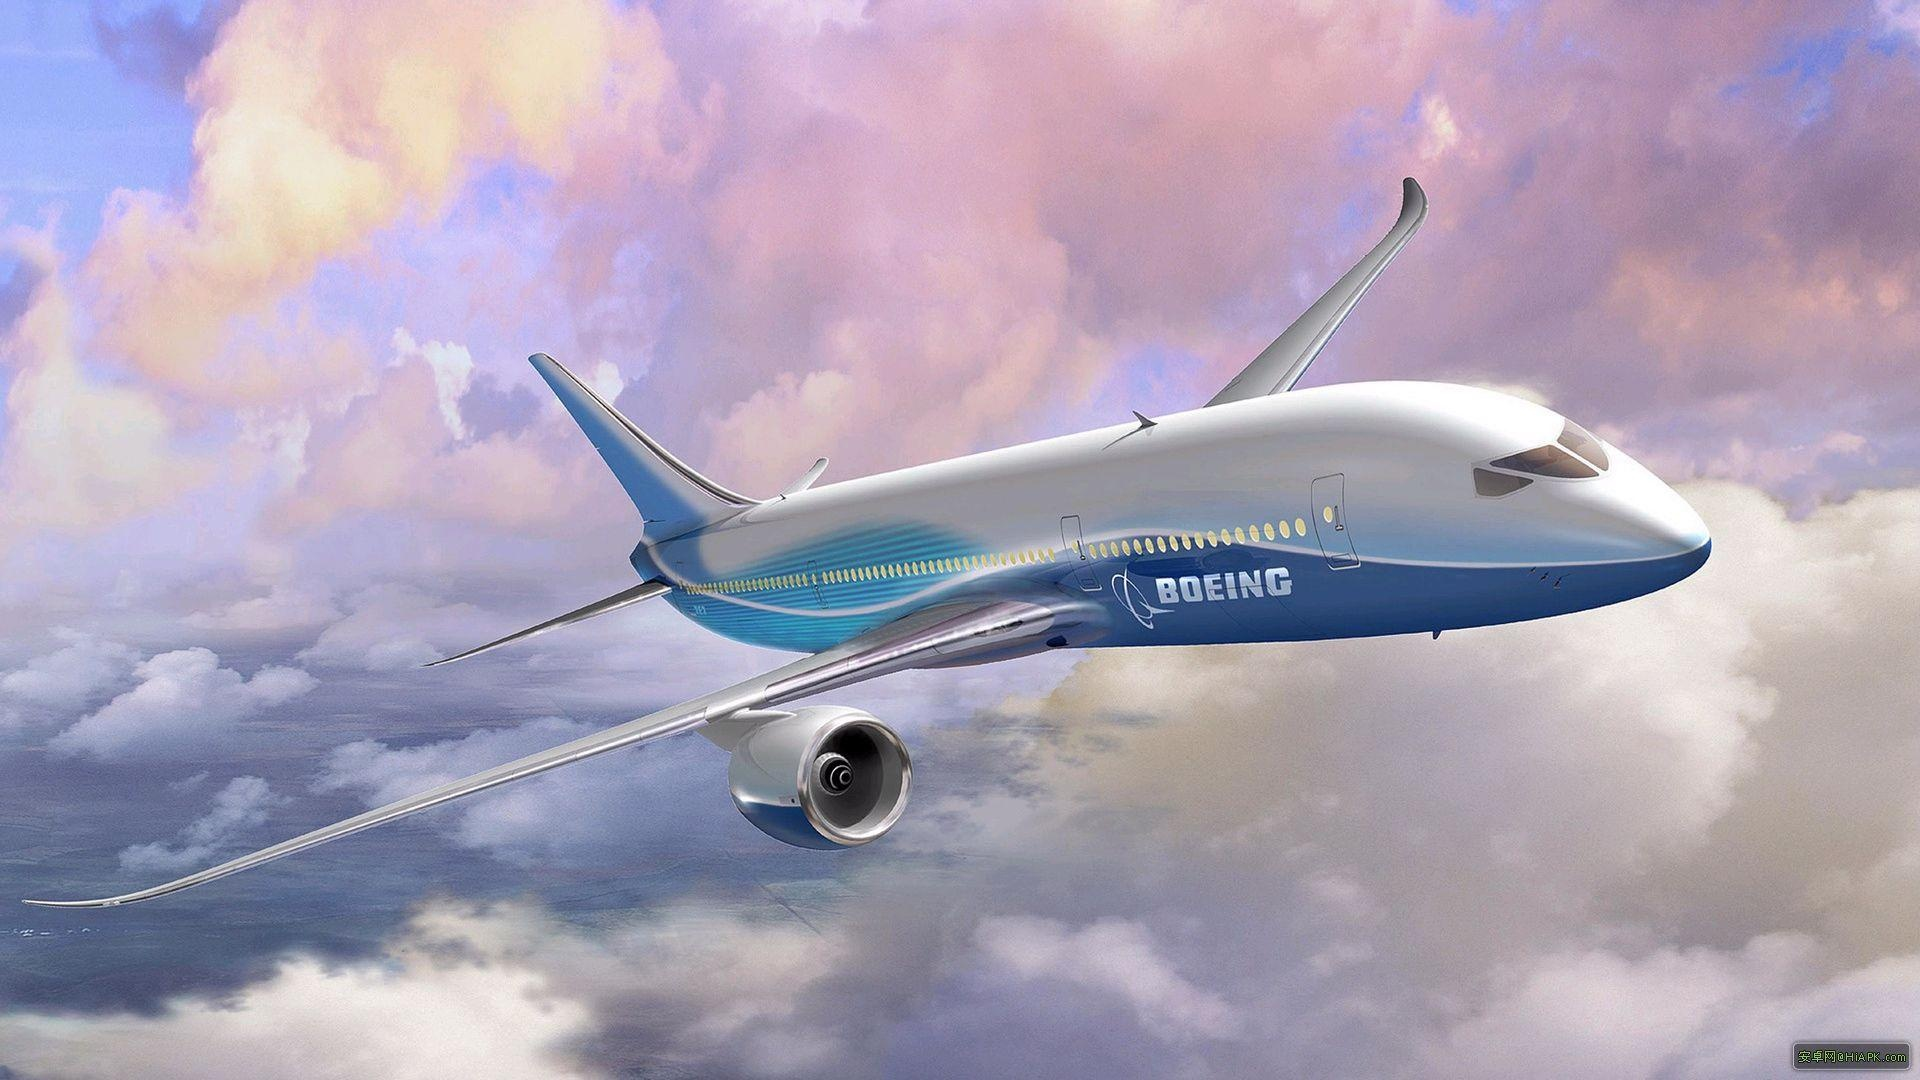airplane: (15, 171, 1712, 927)
